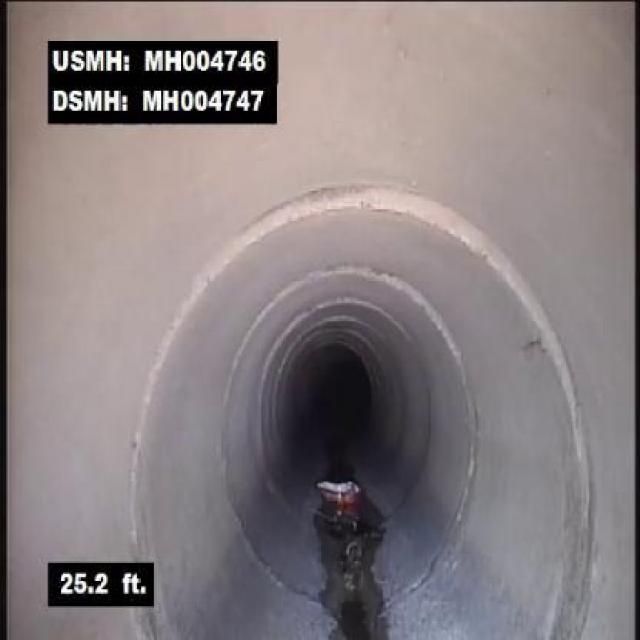Joint offset: (160, 164, 571, 296)
